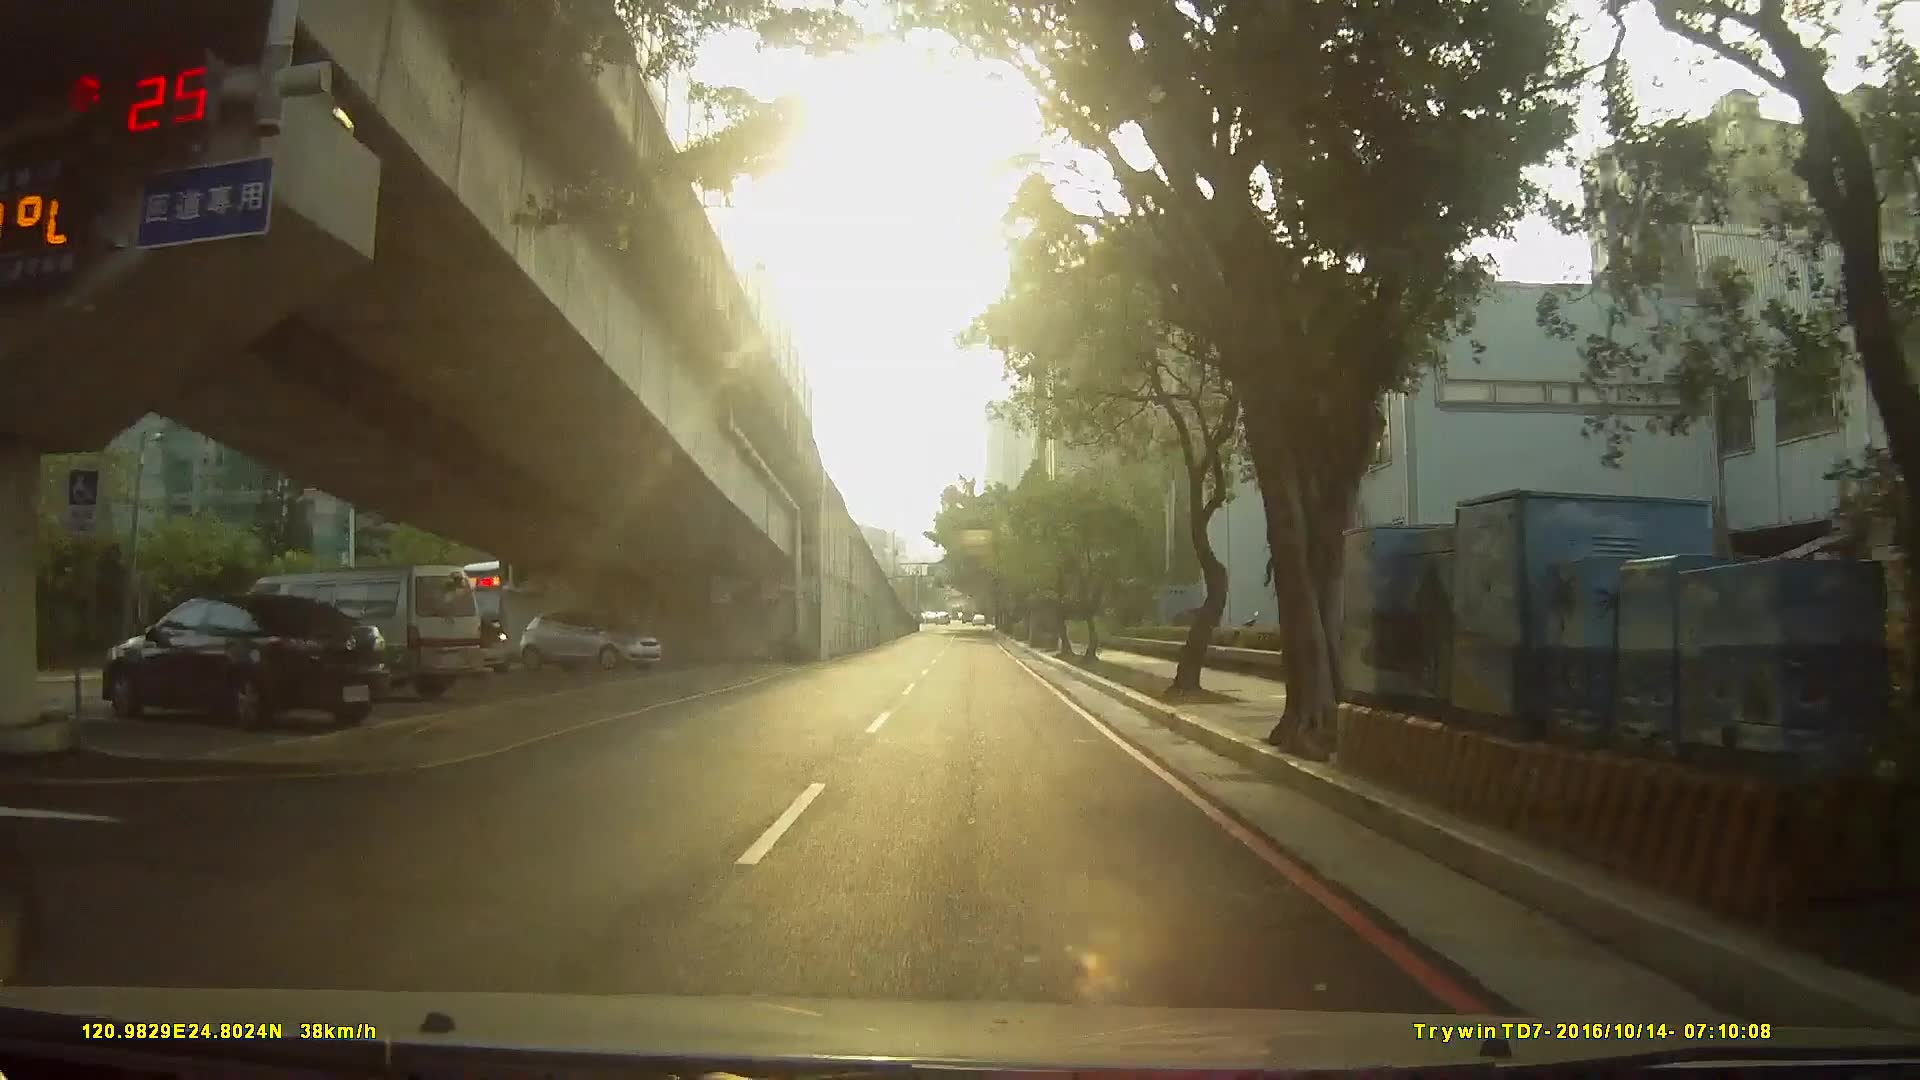vehicle: (82, 582, 390, 735), (212, 566, 472, 705), (512, 611, 659, 676)
